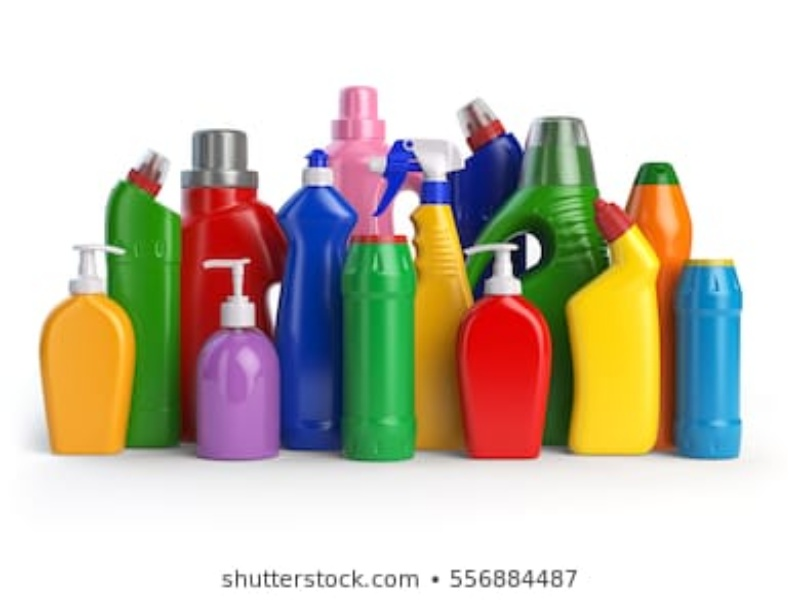detergent-bottle: (554, 199, 674, 460), (477, 110, 615, 318), (385, 130, 470, 464), (174, 128, 280, 367), (106, 143, 188, 450), (454, 233, 555, 467), (38, 239, 147, 450), (282, 145, 355, 451), (190, 250, 289, 465), (627, 154, 690, 453), (667, 248, 753, 463), (345, 228, 417, 467), (436, 80, 527, 252), (321, 73, 411, 241)
